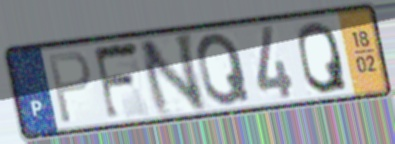4: (253, 21, 297, 103)
F: (91, 38, 144, 124)
N: (136, 29, 209, 120)
P: (45, 48, 94, 127)
Q: (194, 30, 254, 108), (295, 18, 351, 96)
